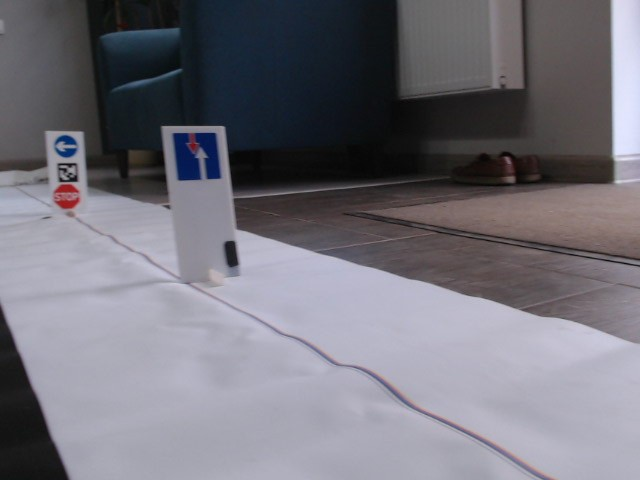Stop: (53, 184, 80, 209)
priority_movement: (171, 131, 223, 181)
